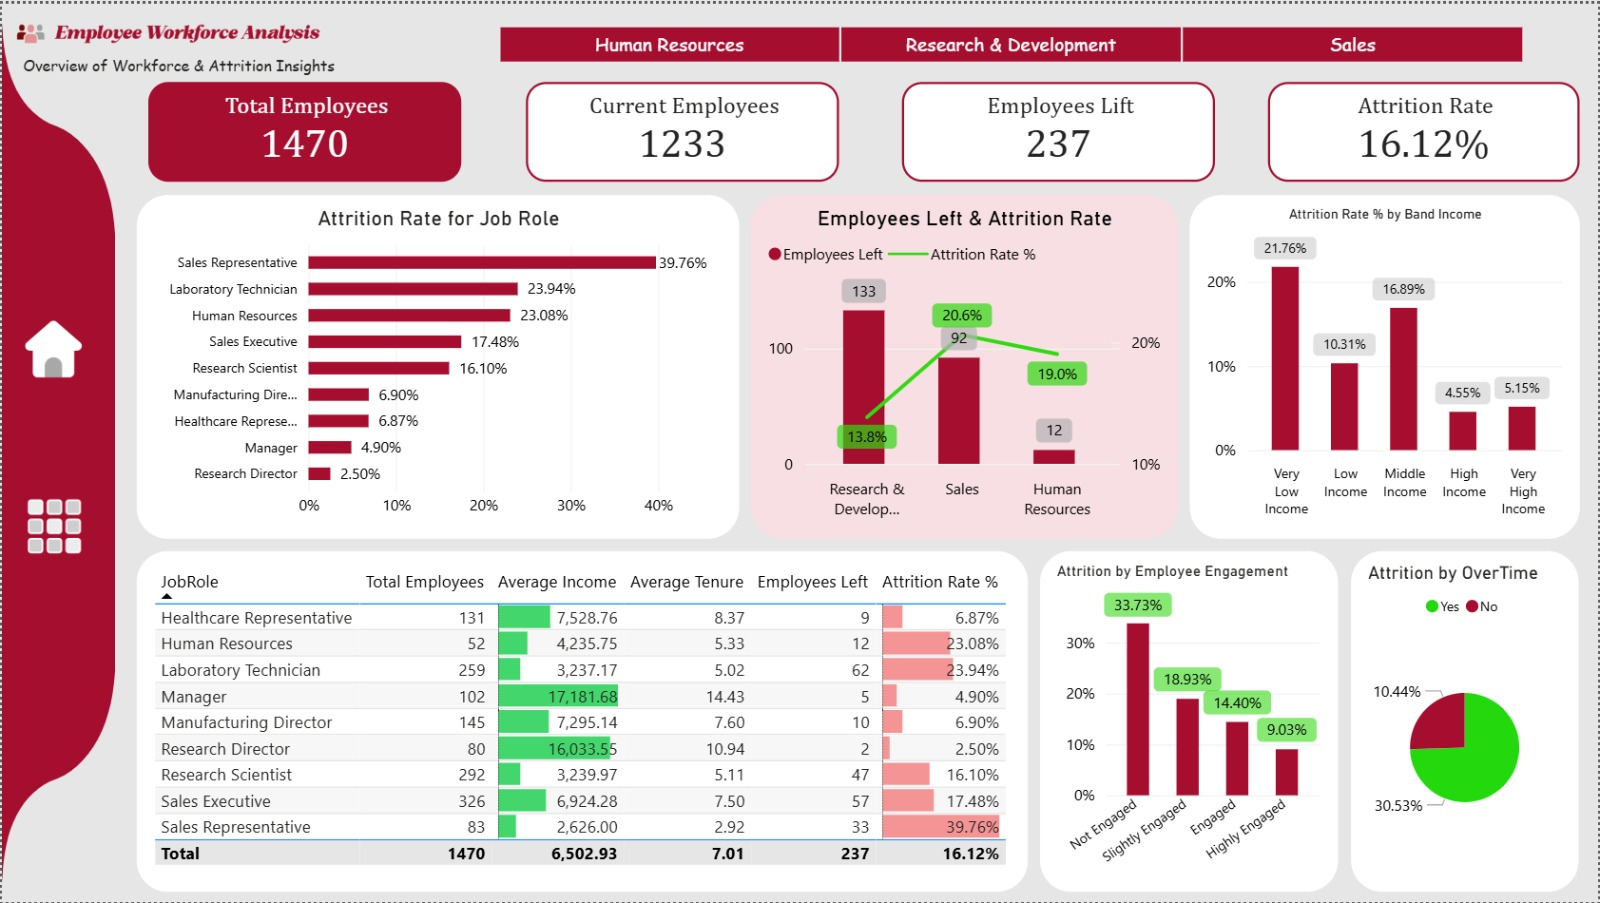

Layout of this report page (visuals, bound fields, positions):
{"tool":"powerbi","page":{"name":"Attrition","canvas":[1280,720],"ordinal":0},"visuals":[{"type":"image","box":[0,0,90.6,719.4],"z":0},{"type":"card","title":"Total Employees","fields":{"Values":["ِِAA_Measures.Total Employees"]},"box":[116.8,63,250.8,80.1],"z":1000},{"type":"card","title":"Employees Lift","fields":{"Values":["ِِAA_Measures.Employees Lift"]},"box":[720.8,63,250.8,80.1],"z":2000},{"type":"card","title":"Current Employees","fields":{"Values":["ِِAA_Measures.Current Employees"]},"box":[420.1,63,250.8,80.1],"z":3000},{"type":"card","title":"Attrition Rate","fields":{"Values":["ِِAA_Measures.Attrition Rate %"]},"box":[1014.8,63,249.4,80.1],"z":4000},{"type":"lineClusteredColumnComboChart","title":"Employees Left & Attrition Rate","fields":{"Category":["HR Projects.Department"],"Y":["ِِAA_Measures.Employees Lift"],"Y2":["ِِAA_Measures.Attrition Rate %"]},"box":[600,153.6,342.7,275.7],"z":5000},{"type":"pieChart","title":"Attrition by OverTime","fields":{"Category":["HR Projects.OverTime"],"Y":["ِِAA_Measures.Attrition Rate %"]},"box":[1081.8,438.5,182.5,273.1],"z":6000},{"type":"clusteredBarChart","title":"Attrition Rate for Job Role","fields":{"Category":["HR Projects.JobRole"],"Y":["ِِAA_Measures.Attrition Rate %"]},"box":[107.7,153.6,483.1,275.7],"z":7000},{"type":"tableEx","fields":{"Values":["HR Projects.JobRole","ِِAA_Measures.Total Employees","ِِAA_Measures.Average Month Income","ِِAA_Measures.Average YAC","ِِAA_Measures.Employees Lift","ِِAA_Measures.Attrition Rate %"]},"box":[107.7,438.5,714.2,273.1],"z":8000},{"type":"image","box":[9.2,250.8,64.3,51.2],"z":9000},{"type":"image","box":[14.4,396.5,55.1,46],"z":10000},{"type":"image","box":[0,0,266.7,48],"z":11000},{"type":"textbox","box":[12,34.7,272,34.7],"z":12000},{"type":"slicer","fields":{"Values":["HR Projects.Department"]},"box":[372.9,11.8,869.1,40.7],"z":13000},{"type":"clusteredColumnChart","title":"Attrition by Employee Engagement","fields":{"Category":["HR Projects.Level Of Job_Involvement"],"Y":["ِِAA_Measures.Attrition Rate %"]},"box":[832.4,438.5,238.9,273.1],"z":14000},{"type":"clusteredColumnChart","fields":{"Category":["HR Projects.Band Income"],"Y":["ِِAA_Measures.Attrition Rate %"]},"box":[951.8,153.6,312.5,275.7],"z":15000}]}

Visuals, with their boxes in screenshot pixels (x1, y1, x2, y2), scaled from the page's 1280x720 canvas onto the 1600x903 screenshot:
image: Rect(0, 0, 113, 902)
"Total Employees" card: Rect(146, 79, 460, 179)
"Employees Lift" card: Rect(901, 79, 1214, 179)
"Current Employees" card: Rect(525, 79, 839, 179)
"Attrition Rate" card: Rect(1268, 79, 1580, 179)
"Employees Left & Attrition Rate" lineClusteredColumnComboChart: Rect(750, 193, 1178, 538)
"Attrition by OverTime" pieChart: Rect(1352, 550, 1580, 892)
"Attrition Rate for Job Role" clusteredBarChart: Rect(135, 193, 739, 538)
tableEx - HR Projects.JobRole x ِِAA_Measures.Total Employees: Rect(135, 550, 1027, 892)
image: Rect(12, 315, 92, 379)
image: Rect(18, 497, 87, 555)
image: Rect(0, 0, 333, 60)
textbox: Rect(15, 44, 355, 87)
slicer - HR Projects.Department: Rect(466, 15, 1552, 66)
"Attrition by Employee Engagement" clusteredColumnChart: Rect(1040, 550, 1339, 892)
clusteredColumnChart - HR Projects.Band Income x ِِAA_Measures.Attrition Rate %: Rect(1190, 193, 1580, 538)
